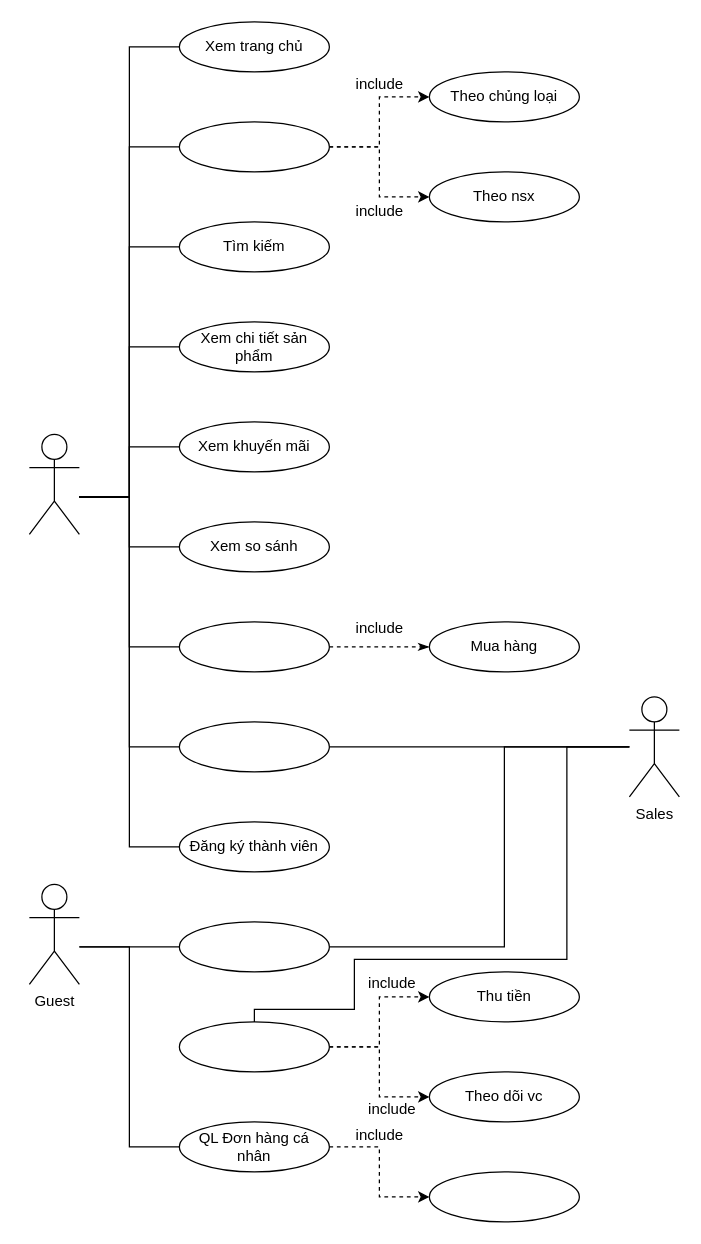
This 701x1244 diagram has some shape labels left out. The centre of each missing label's shape, as x and y in pixels:
Chat: (253,746)
Customer: (53,483)
QL Đơn hàng: (253,1046)
Thanh toán: (503,1196)
Xem QL giỏ hàng: (253,646)
Xem sản phẩm: (253,146)
Đăng nhập: (253,946)
